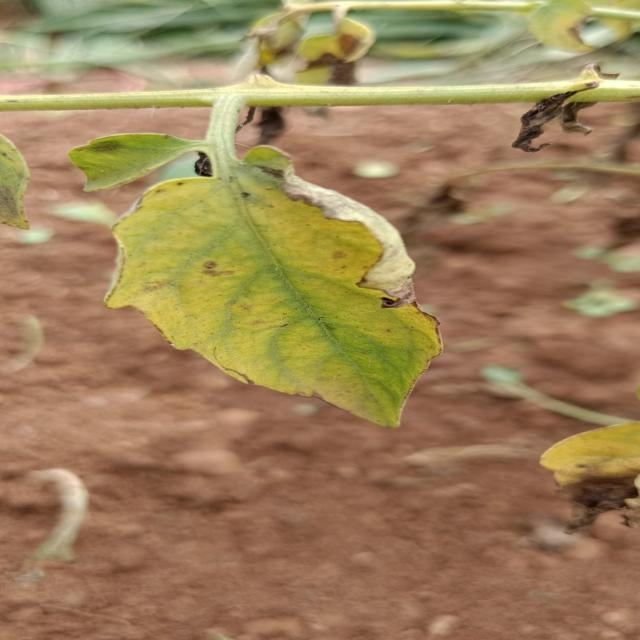tomato_early blight: (105, 170, 437, 430), (245, 0, 389, 98), (544, 415, 640, 546), (66, 128, 206, 188)
